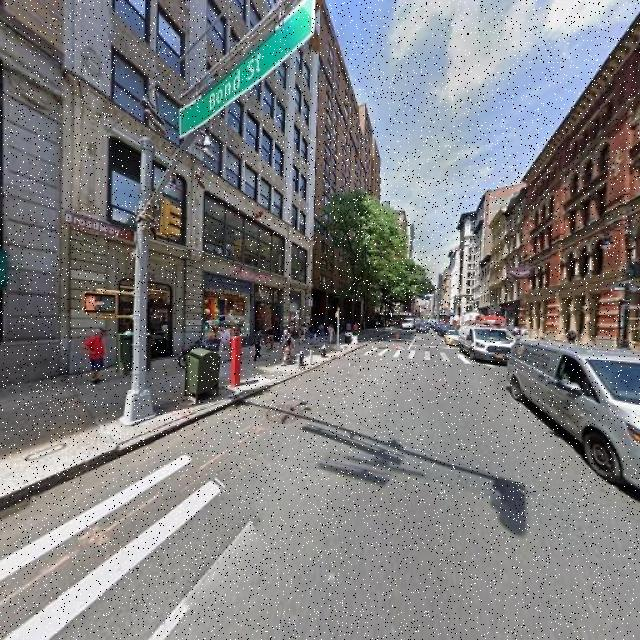Building: (1, 1, 312, 402), (518, 38, 640, 363)
